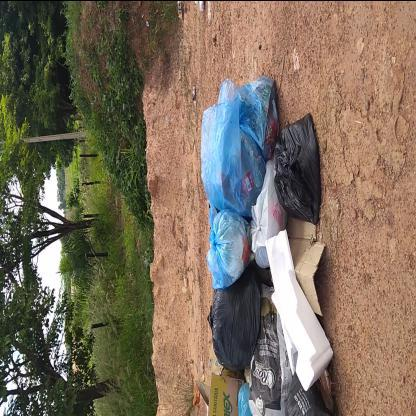lixo: (203, 93, 330, 416)
